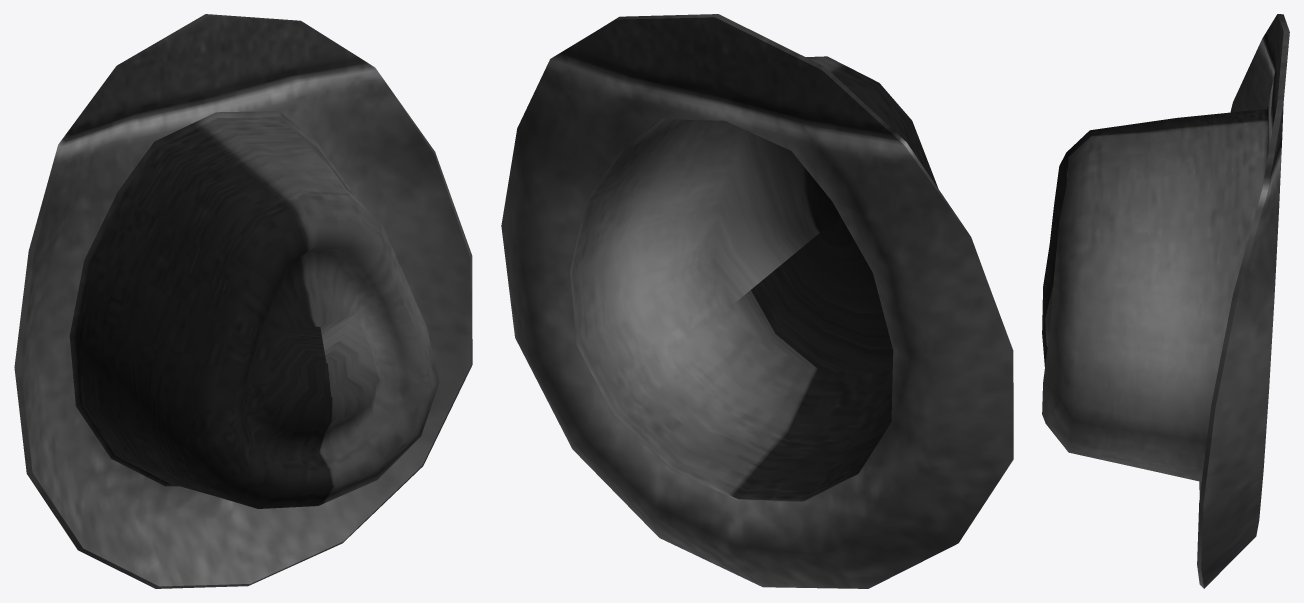
File: Headwear03.glb
3 views of the same model, side by side, from view 1: azimuth 30°, elevation 25°; view 2: azimuth 150°, elevation 25°; view 3: azimuth 270°, elevation 25° (orthographic). The views are drawn at different scales.
Parts seen in each view (by area): view 1: Headwear03; view 2: Headwear03; view 3: Headwear03.
Boxes of the visible parts, <box> form: Headwear03: <box>14,14,472,588</box>; Headwear03: <box>501,14,1013,588</box>; Headwear03: <box>1042,14,1289,588</box>.
Bounding box in the file's own units: 2.77 × 3.13 × 1.32.
1 material, 1 textured.
